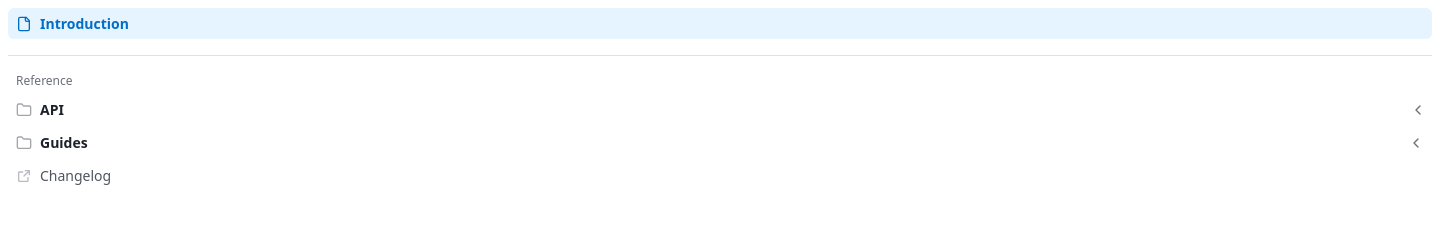
DocsSidebar collapse state › toggles a group on click, and says so on the control
The image size is (1440, 235).
What coordinates should you click on to do the following:
click the button "Guides"
I would click on:
 (64, 142)
Its box is [8,127,1432,158].
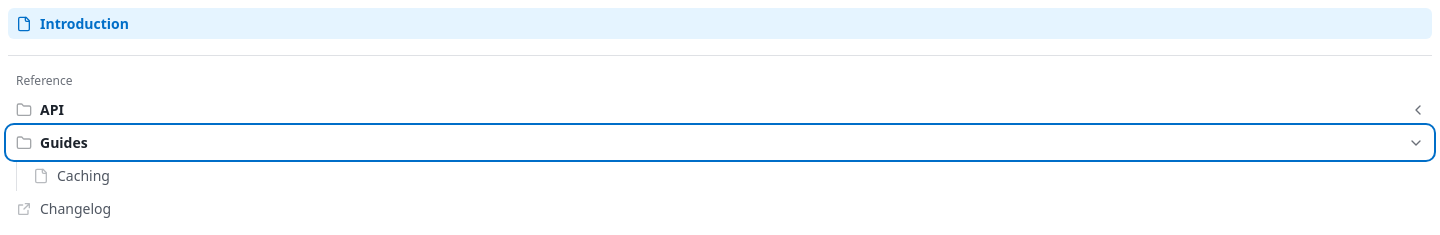
Result: the button "Guides" is expanded
Result: the link "Caching" is shown at [33,166,110,185]
What coordinates should you click on to do the following:
click the button "Guides"
I would click on:
 (64, 142)
Its box is [8,127,1432,158].
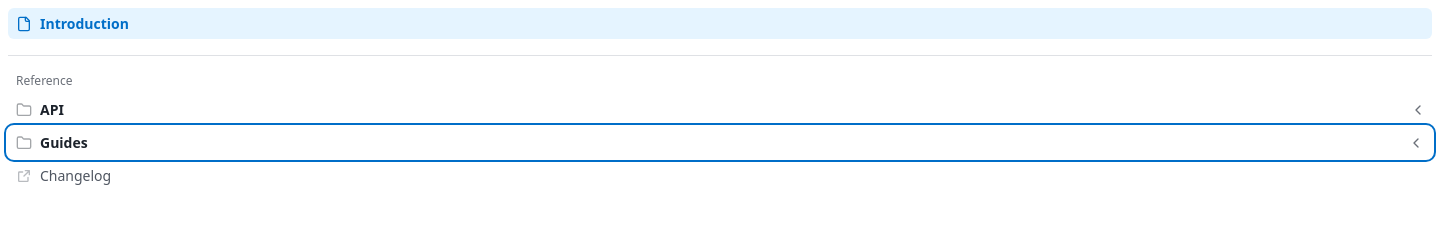
Result: the button "Guides" is collapsed at [8,127,1432,158]
Result: the link "Caching" is gone
